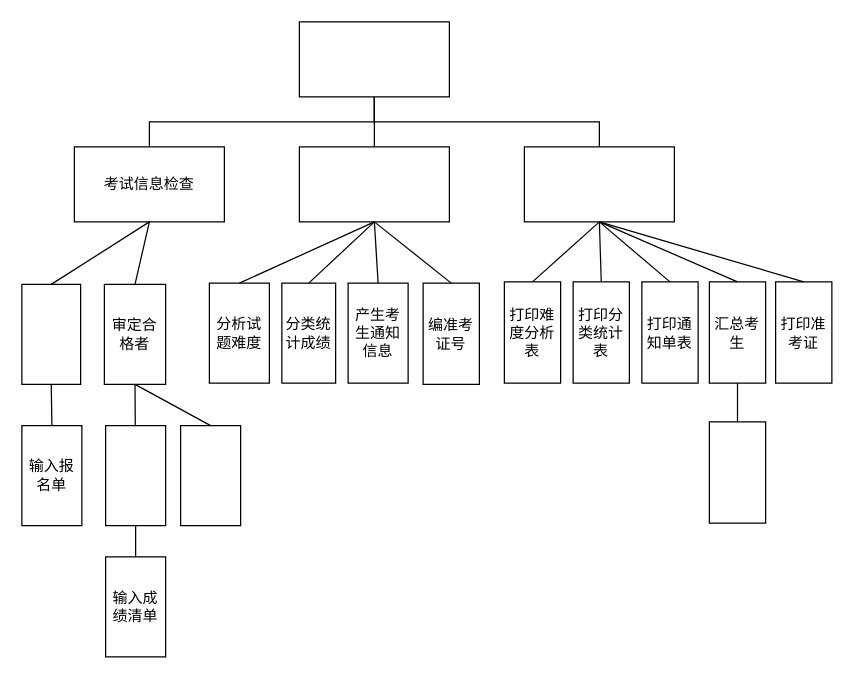
Image size: 854x679. Some labels were removed from this diagram. Here are the shapes that lost their labels. From the top down, the centre of each, then its label:
(373,59): 考务处理系统
(373,184): 考试信息处理
(598,184): 考试信息打印
(51,333): 检测报名单
(135,475): 检查成绩清单
(210,475): 输入合格标准
(737,472): 打印考生名单
